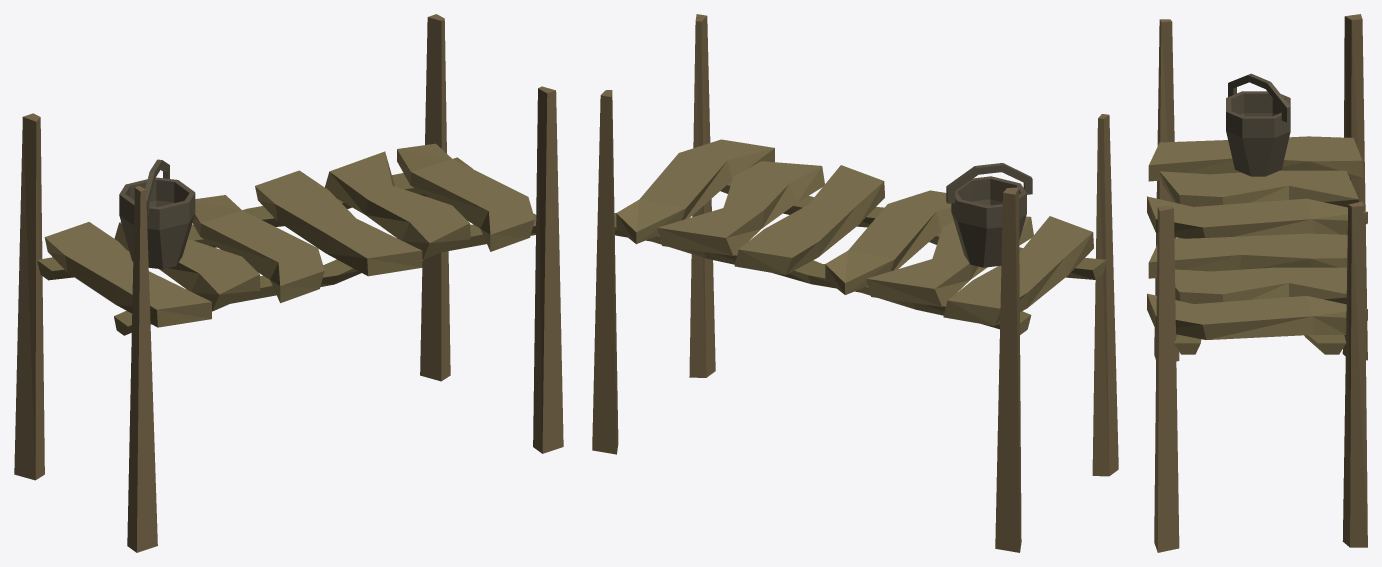
File: obj_scaffold_1_0.obj
3 renders of one model, left to right at view 1: azimuth 30°, elevation 25°; view 2: azimuth 150°, elevation 25°; view 3: azimuth 270°, elevation 25°, orthographic. The views are drawn at different scales.
Bounding box in the file's own units: 2.09 × 1.62 × 0.9609.
